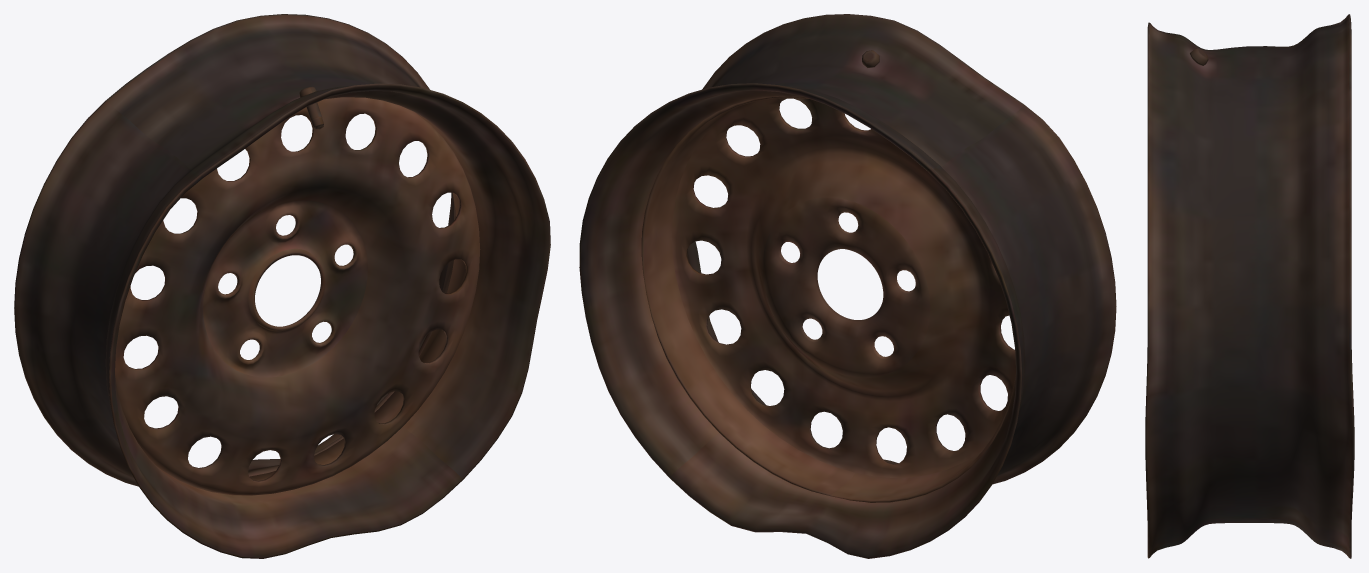
Rendered from rusted_wheel_rim_01.glb.
3 views of the same model, side by side, from view 1: azimuth 30°, elevation 25°; view 2: azimuth 150°, elevation 25°; view 3: azimuth 270°, elevation 25° (orthographic). The views are drawn at different scales.
Parts seen in each view (by area): view 1: rusted_wheel_rim_01; view 2: rusted_wheel_rim_01; view 3: rusted_wheel_rim_01.
Boxes of the visible parts, x1=… form: rusted_wheel_rim_01: x1=14, y1=14, x2=550, y2=558; rusted_wheel_rim_01: x1=579, y1=14, x2=1116, y2=558; rusted_wheel_rim_01: x1=1145, y1=14, x2=1354, y2=558.
Size of the model in its own units: 0.4028 by 0.3955 by 0.1541.
Materials: 1 (1 with a texture image).
